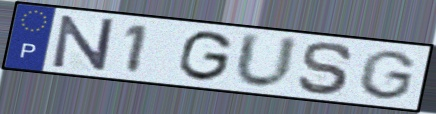1: (121, 23, 151, 75)
G: (354, 48, 419, 102), (175, 29, 236, 84)
N: (50, 14, 116, 73)
S: (295, 40, 357, 97)
U: (231, 30, 301, 92)
